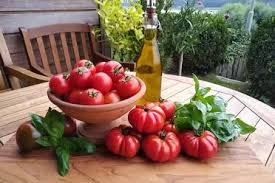tomato: (128, 102, 167, 135), (117, 76, 140, 98), (70, 67, 93, 88)
